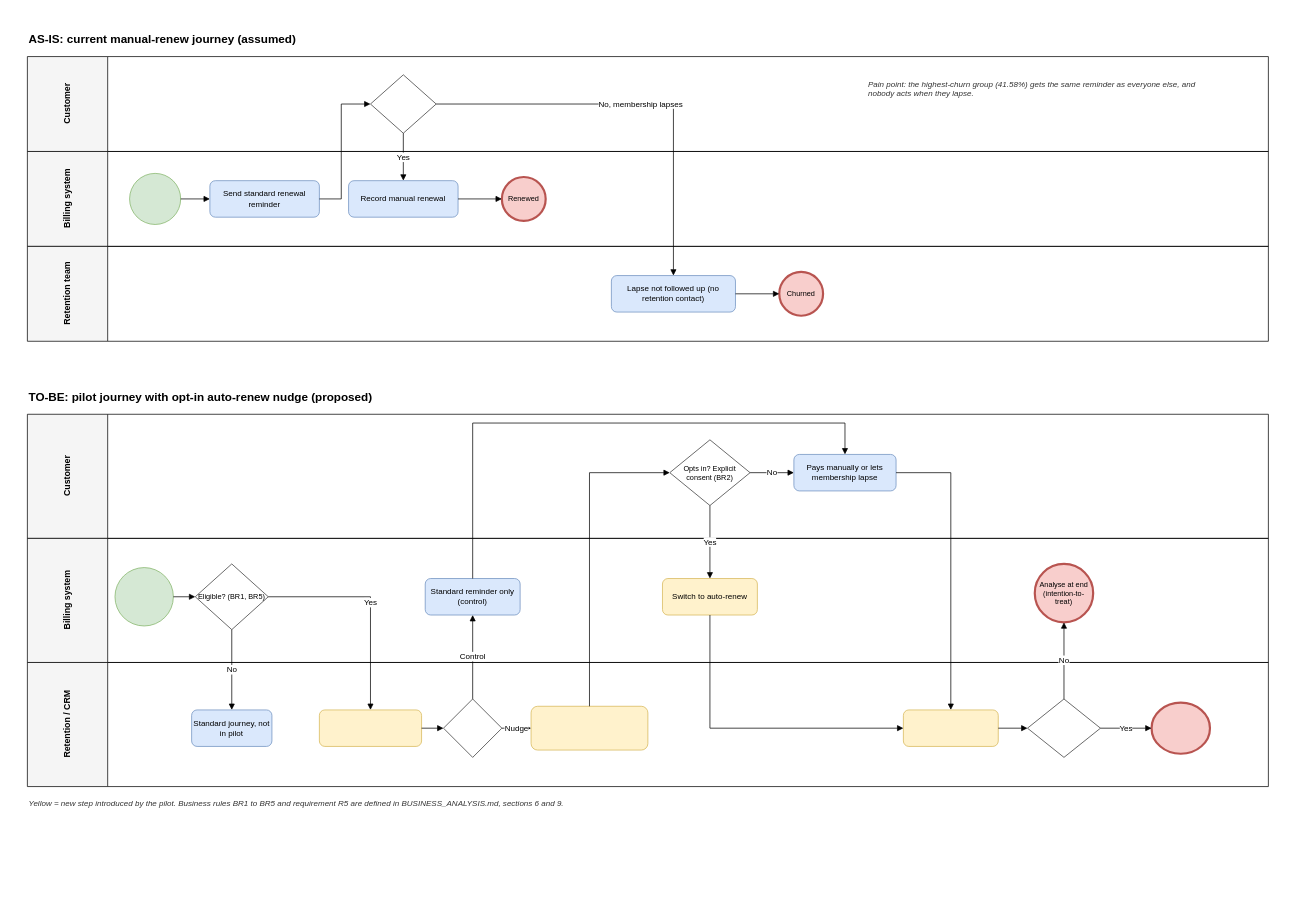
The diagram is 1295 pixels wide and 915 high, and some of its shapes have lost their labels. Here are the shapes that lost their labels. From the top down, the centre of each, then its label:
At pixel 403 103: "Customer pays?".
At pixel 155 198: "Membership nears expiry".
At pixel 143 596: "Membership nears expiry in pilot window".
At pixel 370 727: "Randomise 1:1, group fixed (BR4)".
At pixel 472 727: "Group?".
At pixel 589 728: "Reminder + opt-in auto-renew prompt, max 1 per cycle (BR3)".
At pixel 950 727: "Record outcome 30 days after expiry".
At pixel 1063 727: "Guardrail breached? (R5)".
At pixel 1180 727: "Pause pilot, notify owner".
